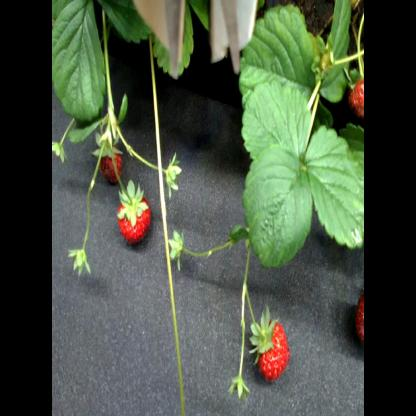ripe: (256, 325, 295, 380), (113, 193, 152, 243), (96, 149, 124, 186), (346, 73, 363, 123), (355, 287, 365, 352)
